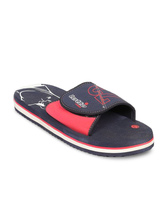shoes: (12, 70, 157, 155)
